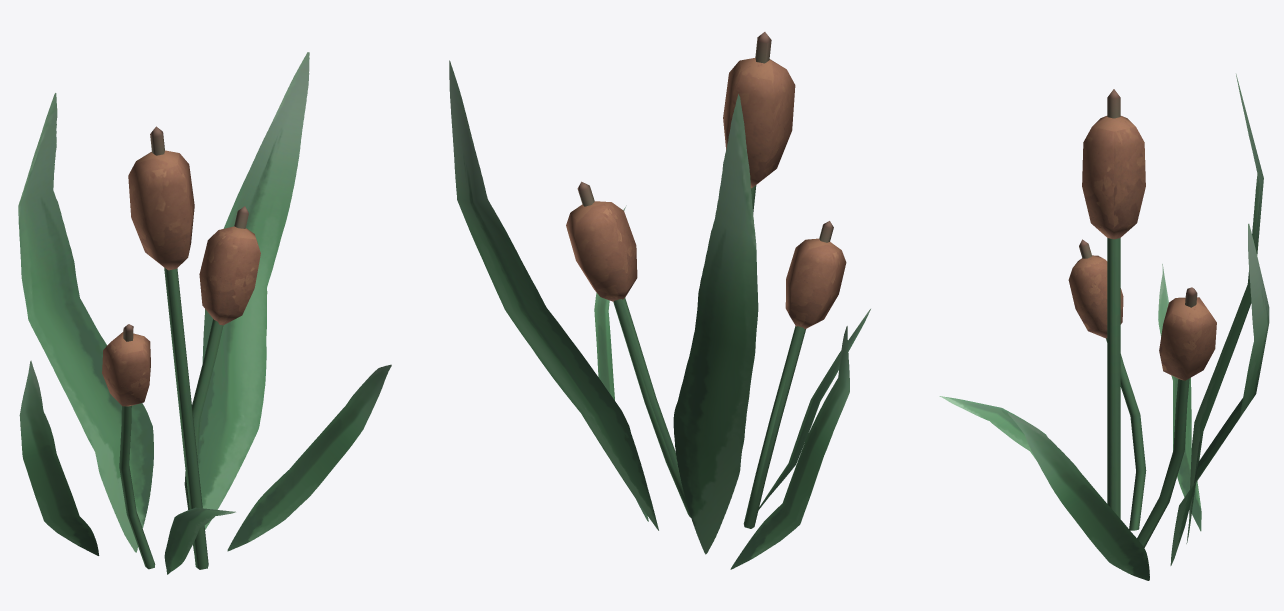
The model's file is SM_Diorama_Reed_001.fbx.
3 views of the same model, side by side, from view 1: azimuth 30°, elevation 25°; view 2: azimuth 150°, elevation 25°; view 3: azimuth 270°, elevation 25° (orthographic). The views are drawn at different scales.
Parts seen in each view (by area): view 1: pPlane27; view 2: pPlane27; view 3: pPlane27.
Boxes of the visible parts, box(x1,y1,x2,y2) form: pPlane27: box(18, 52, 391, 574); pPlane27: box(449, 32, 870, 569); pPlane27: box(939, 74, 1269, 580).
Bounding box in the file's own units: 104 × 163 × 96.81.
